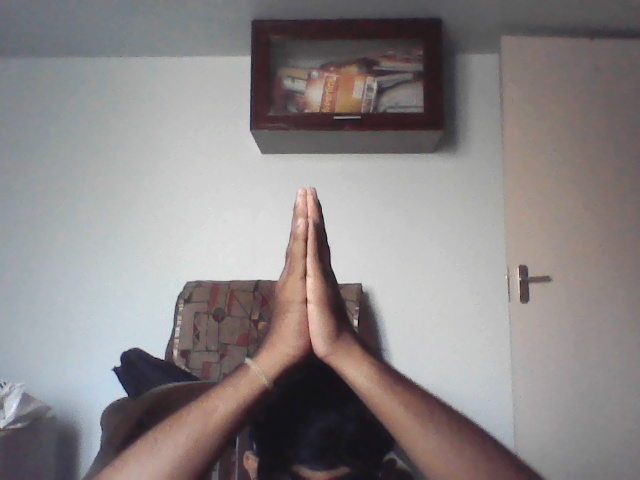Sign: (259, 189, 363, 381)
